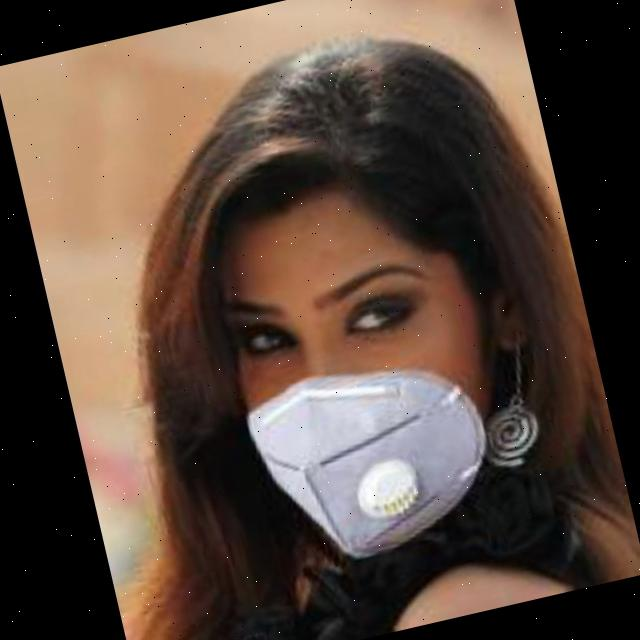suspicion: (139, 114, 569, 570)
